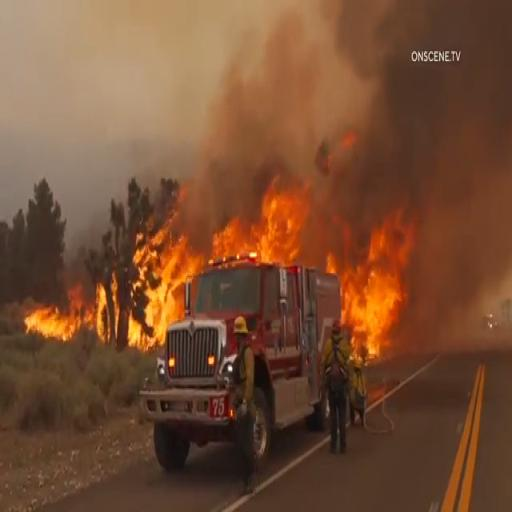fire: (83, 179, 190, 337), (203, 158, 325, 273), (344, 200, 414, 356), (26, 284, 84, 354)
smoke: (414, 95, 503, 229), (303, 0, 406, 115)
